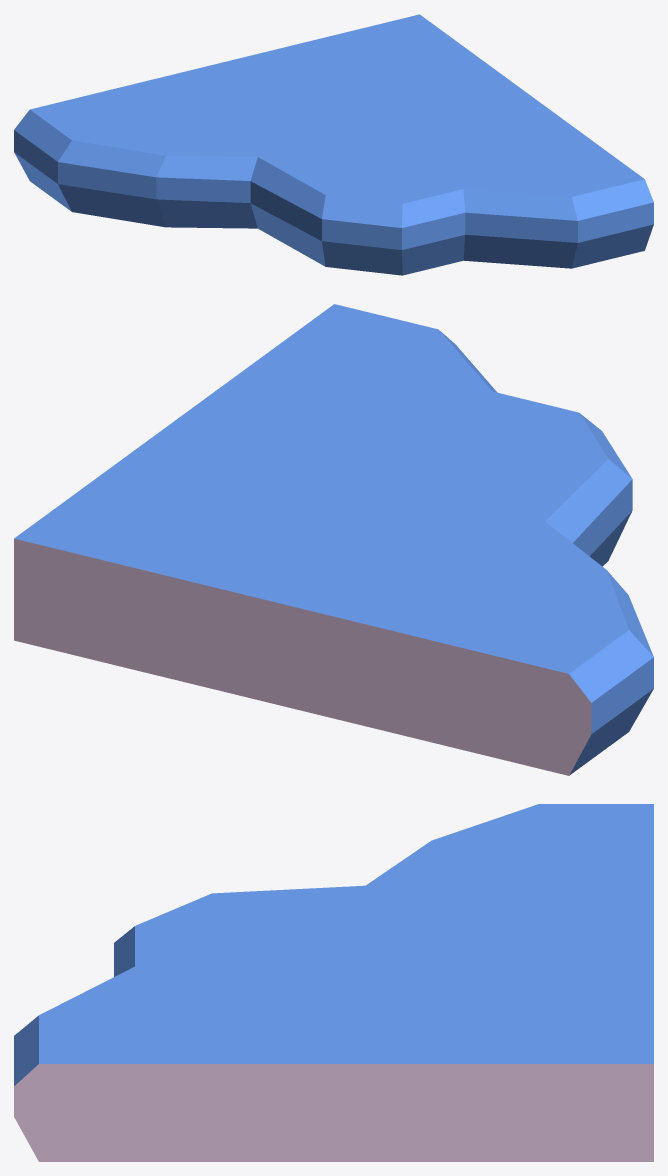
Rendered from Iceberg_Curve_Outer_3x3_2.glb.
3 views of the same model, one above another, from view 1: azimuth 30°, elevation 25°; view 2: azimuth 150°, elevation 25°; view 3: azimuth 270°, elevation 25° (orthographic). The views are drawn at different scales.
Visible parts, largest first — view 1: Iceberg_Curve_Outer_3x3_2; view 2: Iceberg_Curve_Outer_3x3_2; view 3: Iceberg_Curve_Outer_3x3_2.
Boxes of the visible parts, x1=… form: Iceberg_Curve_Outer_3x3_2: x1=14, y1=14, x2=653, y2=275; Iceberg_Curve_Outer_3x3_2: x1=14, y1=304, x2=653, y2=775; Iceberg_Curve_Outer_3x3_2: x1=14, y1=804, x2=653, y2=1161.
Bounding box in the file's own units: 241 × 40.63 × 241.
